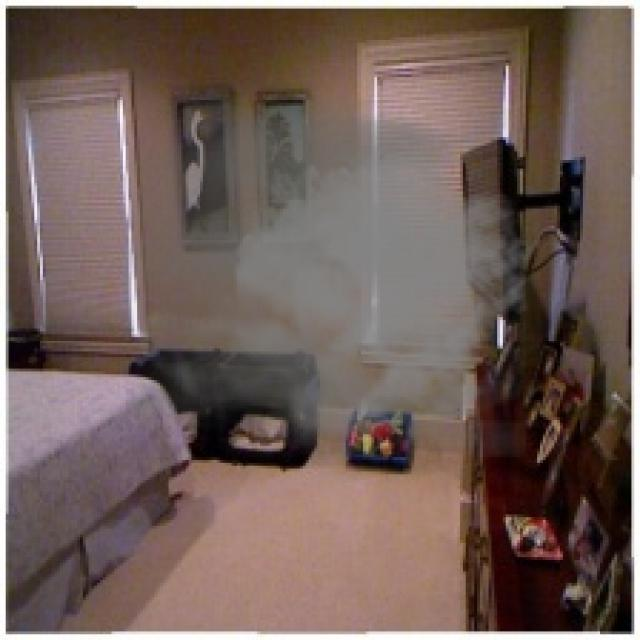Smoke: (125, 94, 540, 457)
